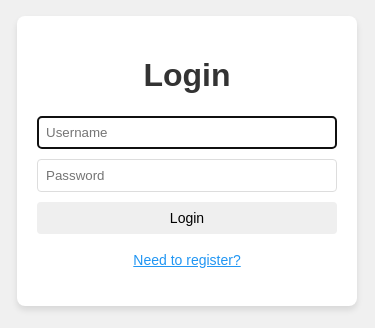
Test: App Component › switches to registration form
Click the button "Need to register?" at (187, 260), box top-left (37, 244), bottom-right (337, 276)
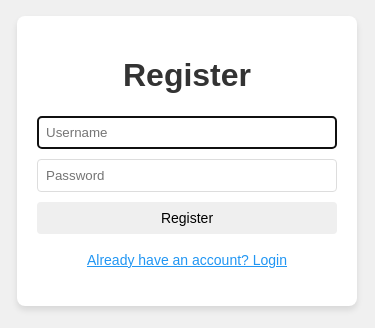
Expected: the heading "Register" is shown, top-left (123, 57), bottom-right (251, 93)
